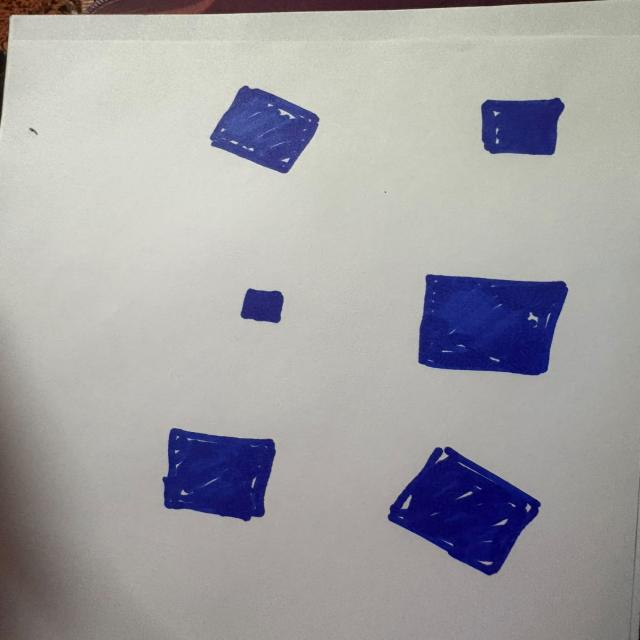Square: (388, 447, 540, 575), (418, 274, 567, 375), (163, 428, 275, 521), (210, 86, 318, 173), (481, 98, 564, 155), (241, 288, 284, 323)
